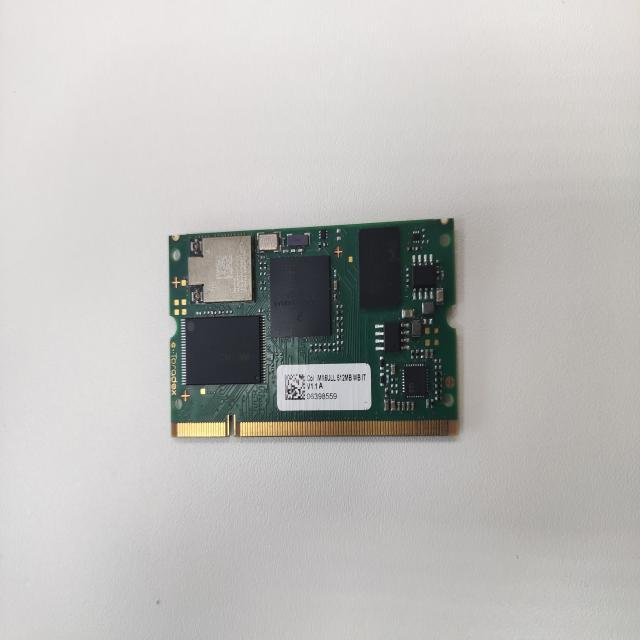som: (152, 216, 475, 458)
